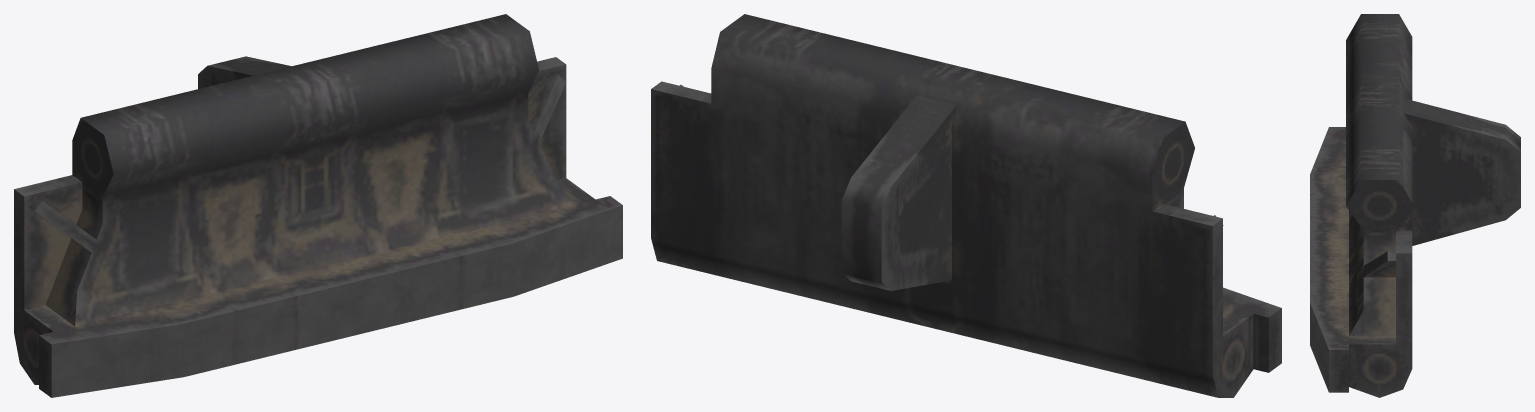
3 renders of one model, left to right at view 1: azimuth 30°, elevation 25°; view 2: azimuth 150°, elevation 25°; view 3: azimuth 270°, elevation 25°, orthographic. The views are drawn at different scales.
Parts seen in each view (by area): view 1: set_0_group_0; view 2: set_0_group_0; view 3: set_0_group_0.
Part boxes in pixels (x1=…): set_0_group_0: x1=14, y1=14, x2=622, y2=397; set_0_group_0: x1=651, y1=14, x2=1281, y2=397; set_0_group_0: x1=1310, y1=14, x2=1520, y2=397.
Bounding box in the file's own units: 0.522 × 0.213 × 0.2085.
1 material, 1 textured.
